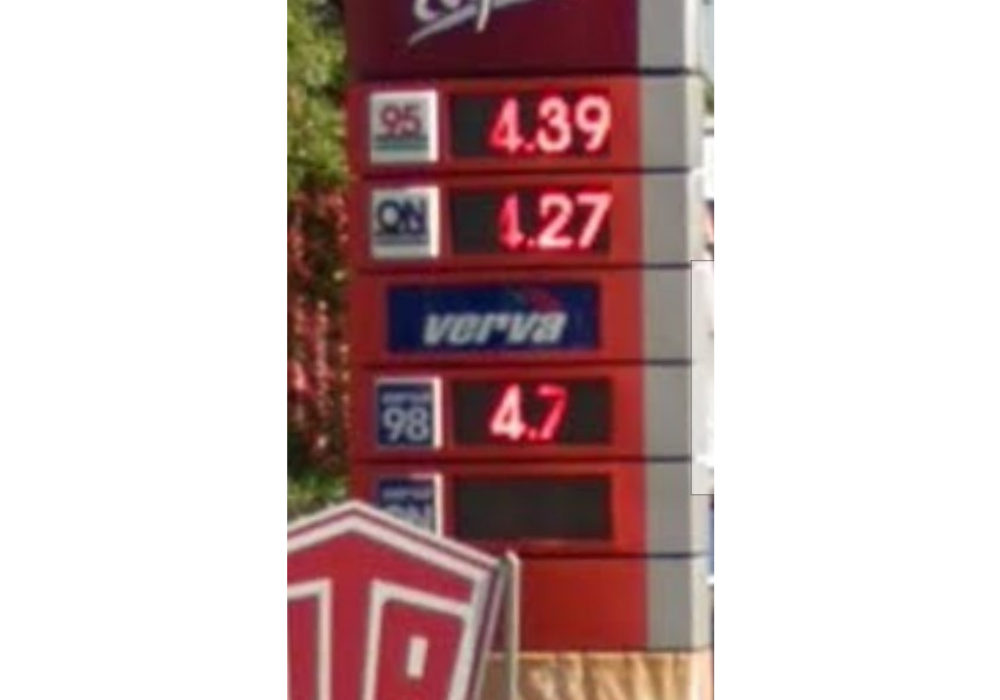ON: (367, 177, 443, 263)
PB95: (364, 85, 442, 170)
PB98: (370, 370, 442, 454)
